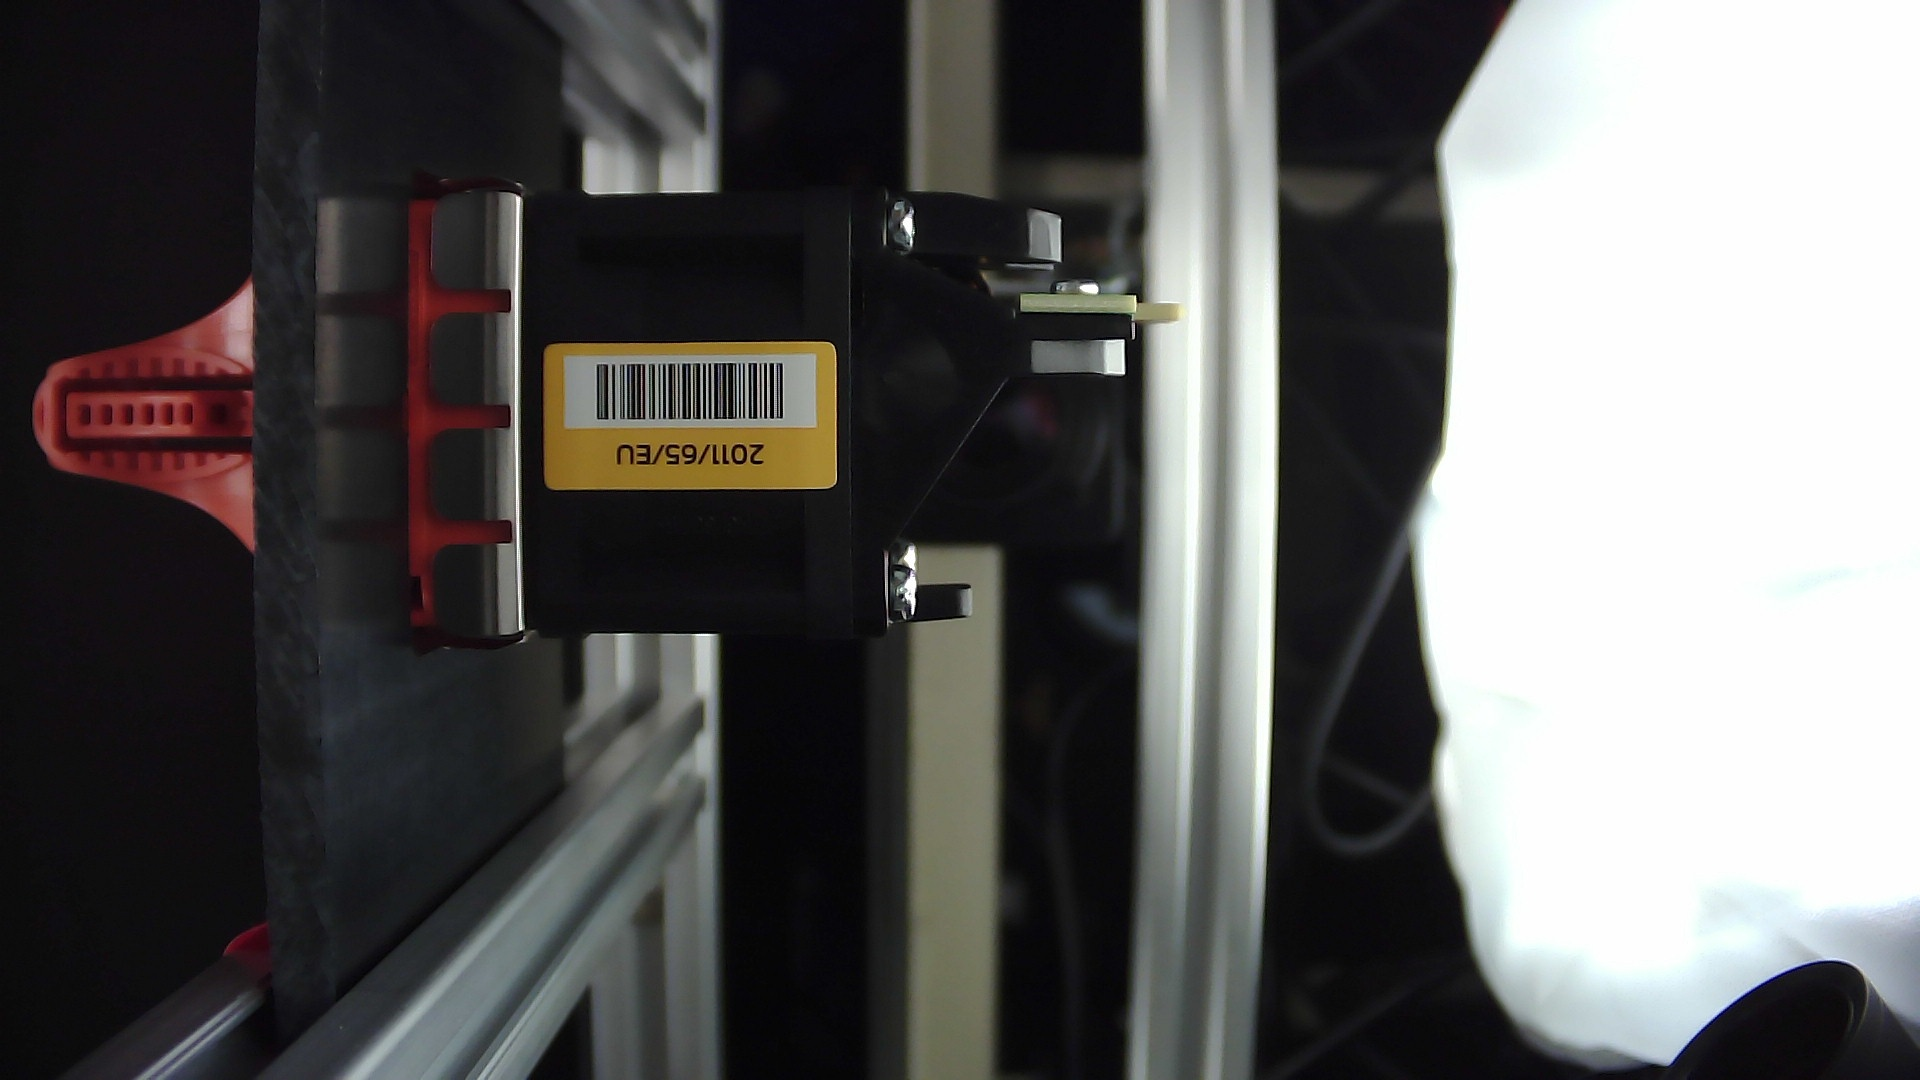6_0: (353, 131, 1215, 682)
